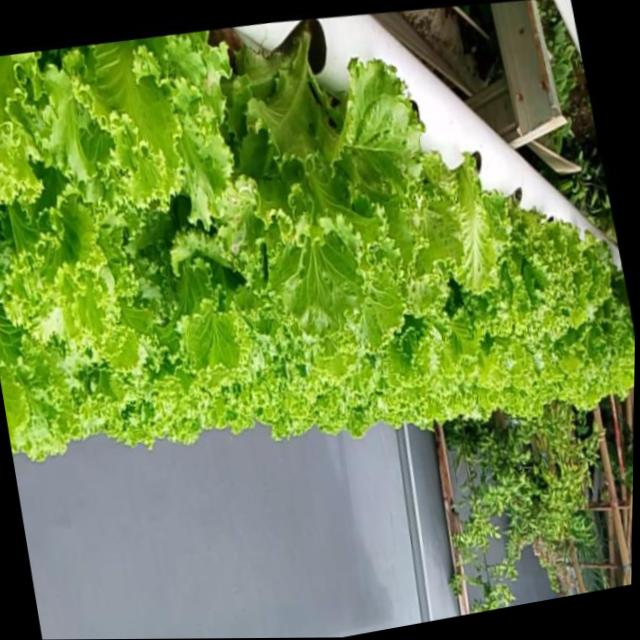Mature: (220, 20, 460, 346), (475, 188, 590, 347)
